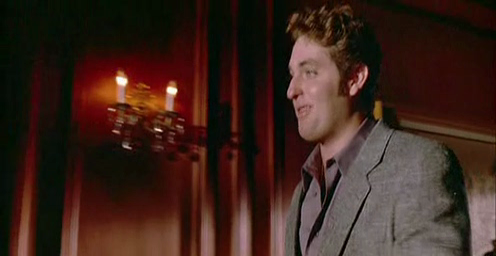face: (285, 43, 334, 140)
mcu: (1, 1, 496, 256)
person: (285, 1, 471, 256)
